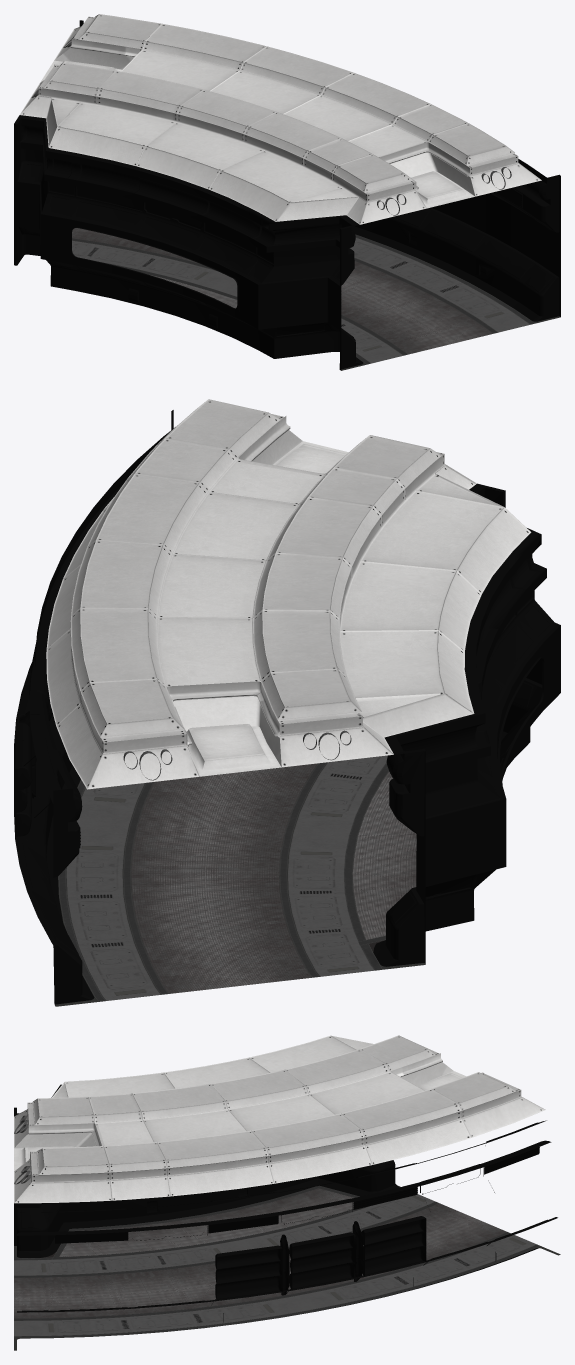
File: HallwayWindowBendB.fbx
The picture shows the model from 3 angles, top to bottom: view 1: azimuth 30°, elevation 25°; view 2: azimuth 150°, elevation 25°; view 3: azimuth 270°, elevation 25°; orthographic projection. The views are drawn at different scales.
Parts seen in each view (by area): view 1: HallwayWindowBendB001; view 2: HallwayWindowBendB001; view 3: HallwayWindowBendB001.
Part boxes in pixels (bbox=[...]): HallwayWindowBendB001: bbox=[14, 14, 560, 370]; HallwayWindowBendB001: bbox=[14, 399, 560, 1006]; HallwayWindowBendB001: bbox=[14, 1035, 560, 1350].
Size of the model in its own units: 1096 by 478 by 1433.
